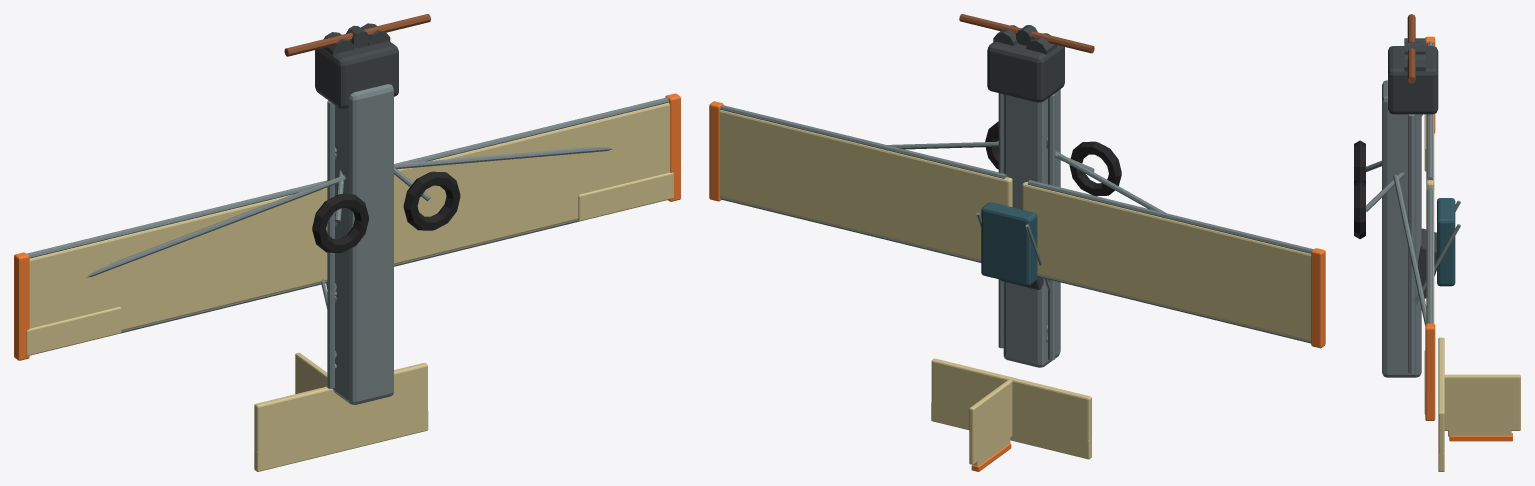
The model's file is pf_aircraft_ultralight.glb.
3 views of the same model, side by side, from view 1: azimuth 30°, elevation 25°; view 2: azimuth 150°, elevation 25°; view 3: azimuth 270°, elevation 25° (orthographic). The views are drawn at different scales.
Visible parts, largest first — view 1: wing_panel_L, wing_panel_R, fuselage_keel, horizontal_stabilizer, engine_block, elevator, aileron_R, aileron_L, main_wheel.001, main_wheel, longeron, wing_leading (+7 smaller); view 2: wing_panel_L, wing_panel_R, fuselage_keel, horizontal_stabilizer, cockpit_coaming, engine_block, vertical_stabilizer, elevator, wing_leading.001, wing_leading, main_wheel, safety_tip_L (+7 smaller); view 3: fuselage_keel, vertical_stabilizer, engine_block, longeron.001, cockpit_coaming, safety_tip_R, rudder, wing_leading.001, wing_brace.001, horizontal_stabilizer, main_wheel.001, cockpit_seat (+9 smaller).
Boxes of the visible parts, x1,y1,x2,y2 form: wing_panel_L: [29, 188, 327, 330]; wing_panel_R: [394, 102, 669, 264]; fuselage_keel: [333, 84, 393, 404]; horizontal_stabilizer: [254, 363, 427, 458]; engine_block: [315, 41, 398, 108]; elevator: [254, 410, 428, 471]; aileron_R: [578, 172, 673, 221]; aileron_L: [26, 307, 121, 355]; main_wheel.001: [403, 171, 460, 230]; main_wheel: [312, 194, 368, 252]; longeron: [327, 100, 334, 388]; wing_leading: [27, 180, 327, 258]; wing_panel_L: [1022, 182, 1311, 341]; wing_panel_R: [719, 110, 1012, 260]; fuselage_keel: [1003, 89, 1060, 367]; horizontal_stabilizer: [931, 358, 1091, 446]; cockpit_coaming: [981, 202, 1037, 285]; engine_block: [987, 41, 1064, 102]; vertical_stabilizer: [969, 379, 1012, 464]; elevator: [931, 402, 1091, 459]; wing_leading.001: [720, 105, 1007, 178]; wing_leading: [1027, 180, 1313, 253]; main_wheel: [1069, 141, 1121, 196]; safety_tip_L: [1311, 248, 1325, 348]; fuselage_keel: [1382, 80, 1421, 377]; vertical_stabilizer: [1444, 374, 1520, 430]; engine_block: [1388, 46, 1438, 114]; longeron.001: [1408, 114, 1415, 373]; cockpit_coaming: [1437, 198, 1455, 286]; safety_tip_R: [1425, 323, 1435, 420]; rudder: [1448, 419, 1511, 436]; wing_leading.001: [1427, 188, 1433, 323]; wing_brace.001: [1393, 174, 1426, 325]; horizontal_stabilizer: [1438, 337, 1444, 454]; main_wheel.001: [1354, 181, 1365, 238]; cockpit_seat: [1418, 228, 1436, 298].
Bounding box in the file's own units: 10.44 × 6.62 × 2.52.
